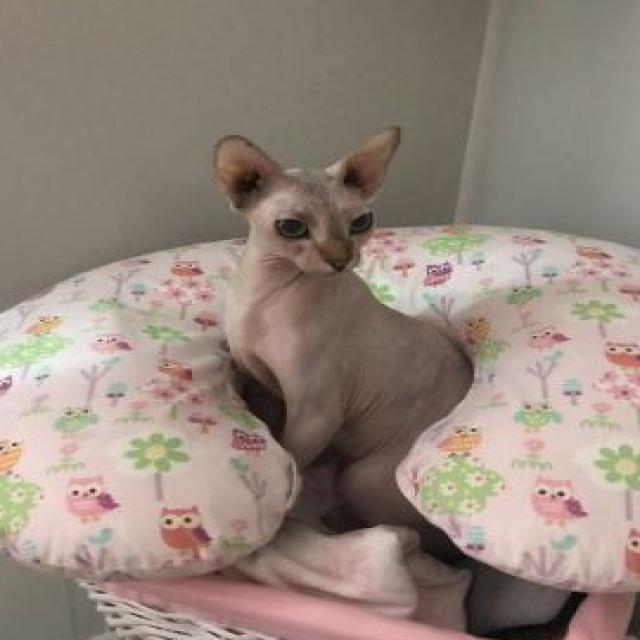Sphynx: (207, 122, 480, 533)
